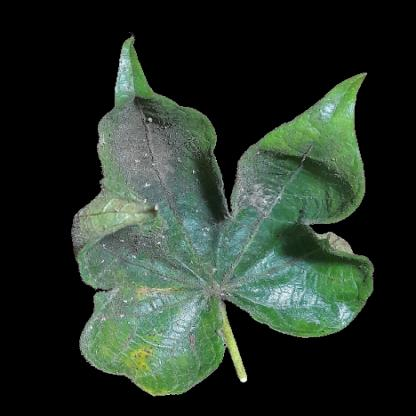curl_stage1: (128, 344, 160, 382)
healthy: (290, 123, 355, 145)
sooty: (109, 110, 212, 205), (95, 224, 219, 292), (238, 147, 289, 216), (217, 218, 288, 257), (218, 257, 248, 301)
